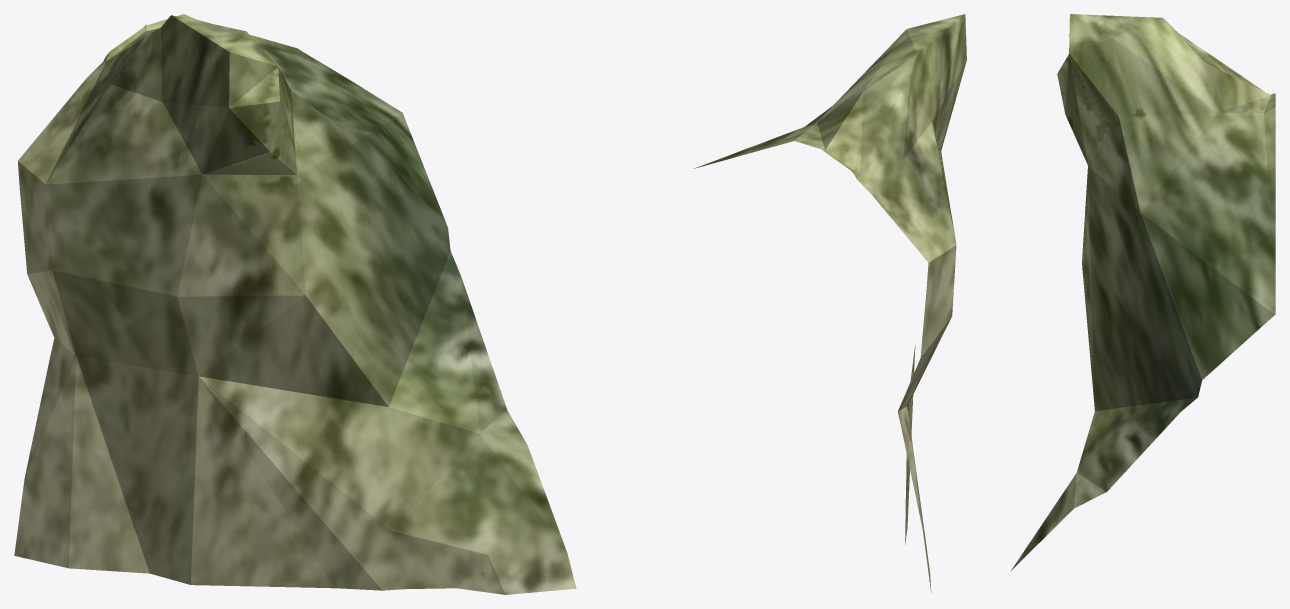
The picture shows the model from 3 angles, left to right: view 1: azimuth 30°, elevation 25°; view 2: azimuth 150°, elevation 25°; view 3: azimuth 270°, elevation 25°; orthographic projection. The views are drawn at different scales.
Bounding box in the file's own units: 1.43 × 2.03 × 1.11.
1 material, 1 textured.
